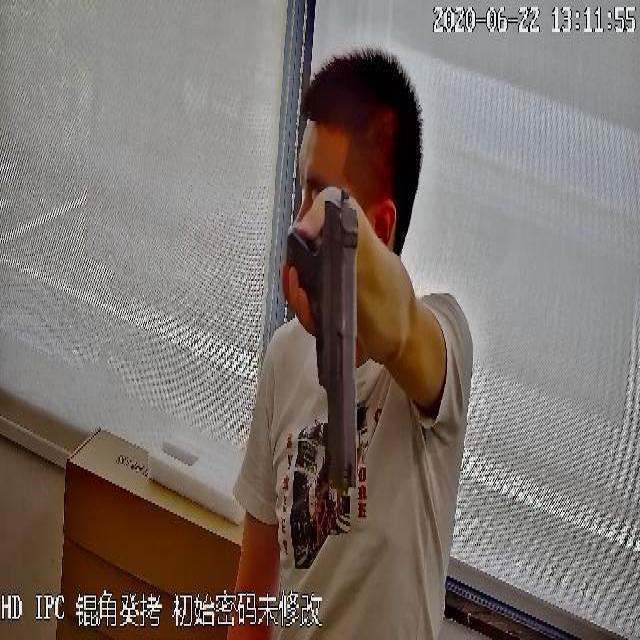pistol: (285, 188, 365, 492)
